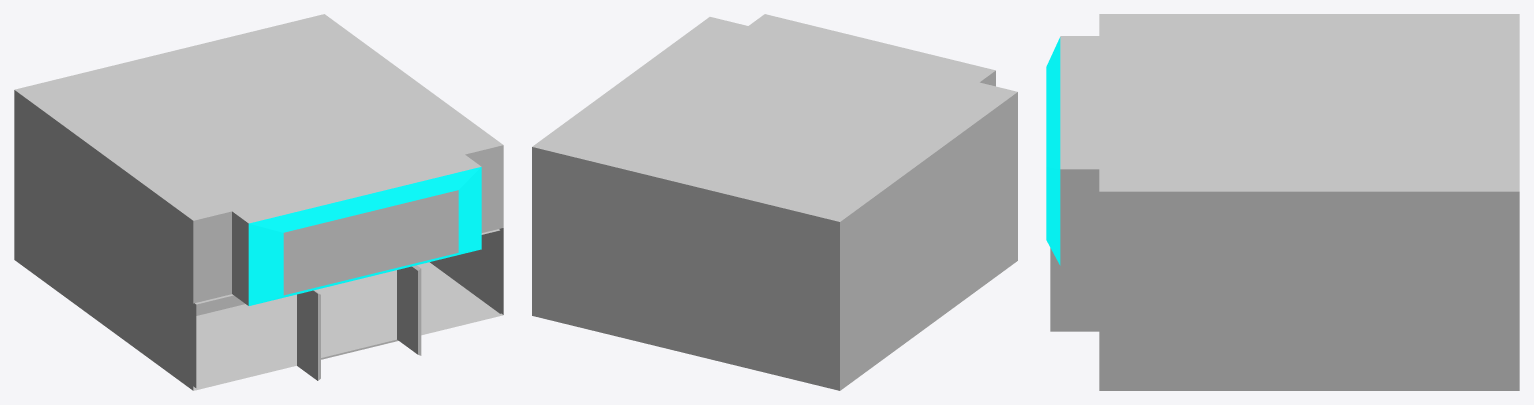
The picture shows the model from 3 angles, left to right: view 1: azimuth 30°, elevation 25°; view 2: azimuth 150°, elevation 25°; view 3: azimuth 270°, elevation 25°; orthographic projection. The views are drawn at different scales.
Visible parts, largest first — view 1: Cube.004; view 2: Cube.004; view 3: Cube.004.
Boxes of the visible parts, bbox=[...] form: Cube.004: bbox=[14, 14, 503, 390]; Cube.004: bbox=[532, 14, 1017, 390]; Cube.004: bbox=[1046, 14, 1519, 390].
Bounding box in the file's own units: 166 × 86.83 × 187.
